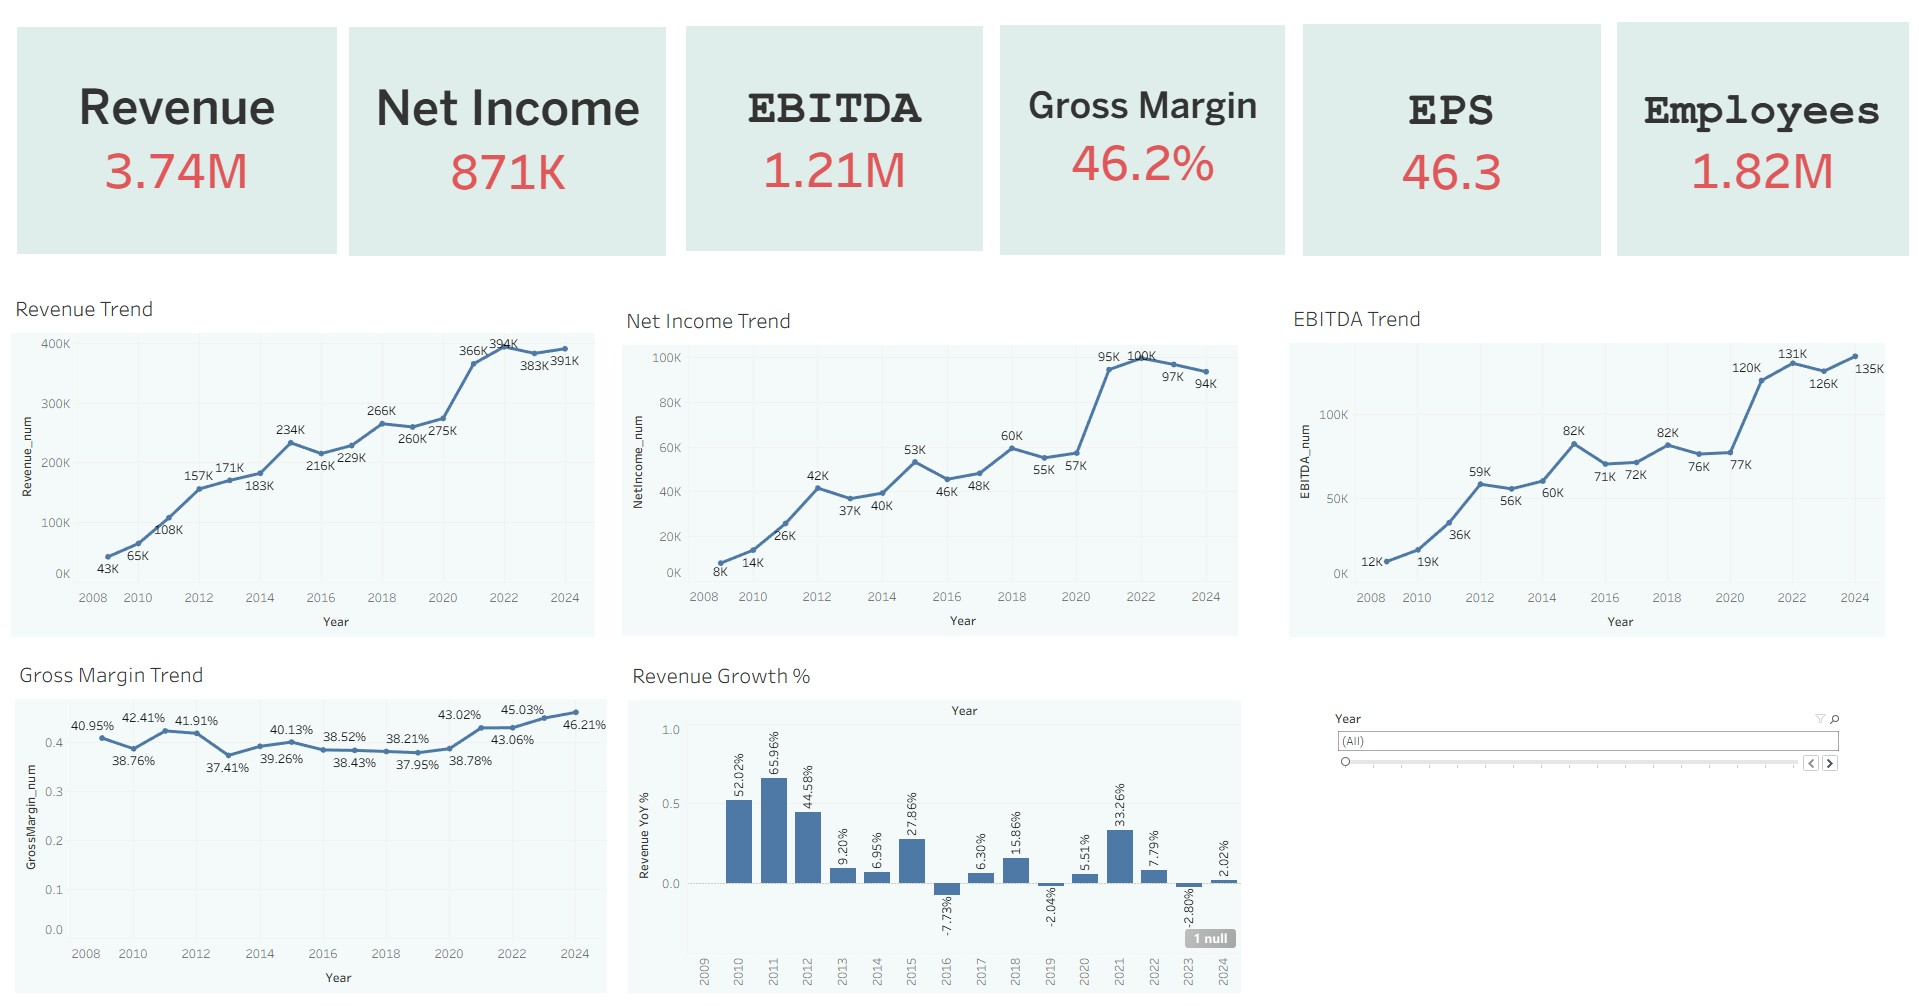

The dashboard page shown, as its layout file describes it:
{"tool":"tableau","page":{"name":"SalesFinancial Dashboard","canvas":[1000,1000],"units":"permille","ordinal":0},"visuals":[{"type":"worksheet","title":"KPI - Employees","mark":"Automatic","box":[842,22.2,152.1,231.3]},{"type":"worksheet","title":"KPI - EPS","mark":"Automatic","box":[678.8,23.4,155.1,230.1]},{"type":"worksheet","title":"KPI - Gross Margin","mark":"Automatic","box":[520.8,24.5,148.6,227.8]},{"type":"worksheet","title":"KPI - EBITDA","mark":"Automatic","box":[357.5,25.7,154.5,226.6]},{"type":"worksheet","title":"KPI - Revenue","mark":"Automatic","box":[8.9,26.9,166.5,224.3]},{"type":"worksheet","title":"KPI - Net Income","mark":"Automatic","box":[181.9,26.9,165.3,226.6]},{"type":"worksheet","title":"Revenue Trend","mark":"Automatic","rows":["Calculation_656118227962658816"],"cols":["year"],"box":[5.9,287.4,304.3,343.5]},{"type":"worksheet","title":"EBITDA Trend","mark":"Automatic","rows":["Calculation_656118227962830850"],"cols":["year"],"box":[671.1,296.7,310.7,334.1]},{"type":"worksheet","title":"Net Income Trend","mark":"Automatic","rows":["Calculation_656118227962773505"],"cols":["year"],"box":[324.2,299.1,320.7,330.6]},{"type":"worksheet","title":"Gross Margin Trend","mark":"Automatic","rows":["Calculation_656118227962982404"],"cols":["year"],"box":[7.6,649.5,308.4,334.1]},{"type":"worksheet","title":"Revenue Growth %","mark":"Automatic","cols":["year"],"box":[327,650.7,319.3,332.9]},{"type":"filter","title":"Revenue Growth %","param":"[federated.0f3xyq30ajchtt10bfafv11bk4tt].[none:year:ok]","box":[695.1,703.3,263.9,189.2]}]}

Visuals, with their boxes on the dashboard's canvas, which has no fixed pixel size, in thousandths of its width and height (x1, y1, x2, y2). These are canvas units, not pixel positions in the 1919x1006 screenshot, which may show the page scaled, cropped or inside an application window:
"KPI - Employees" worksheet: 842, 22, 994, 254
"KPI - EPS" worksheet: 679, 23, 834, 254
"KPI - Gross Margin" worksheet: 521, 24, 669, 252
"KPI - EBITDA" worksheet: 358, 26, 512, 252
"KPI - Revenue" worksheet: 9, 27, 175, 251
"KPI - Net Income" worksheet: 182, 27, 347, 254
"Revenue Trend" worksheet: 6, 287, 310, 631
"EBITDA Trend" worksheet: 671, 297, 982, 631
"Net Income Trend" worksheet: 324, 299, 645, 630
"Gross Margin Trend" worksheet: 8, 650, 316, 984
"Revenue Growth %" worksheet: 327, 651, 646, 984
"Revenue Growth %" filter: 695, 703, 959, 892
